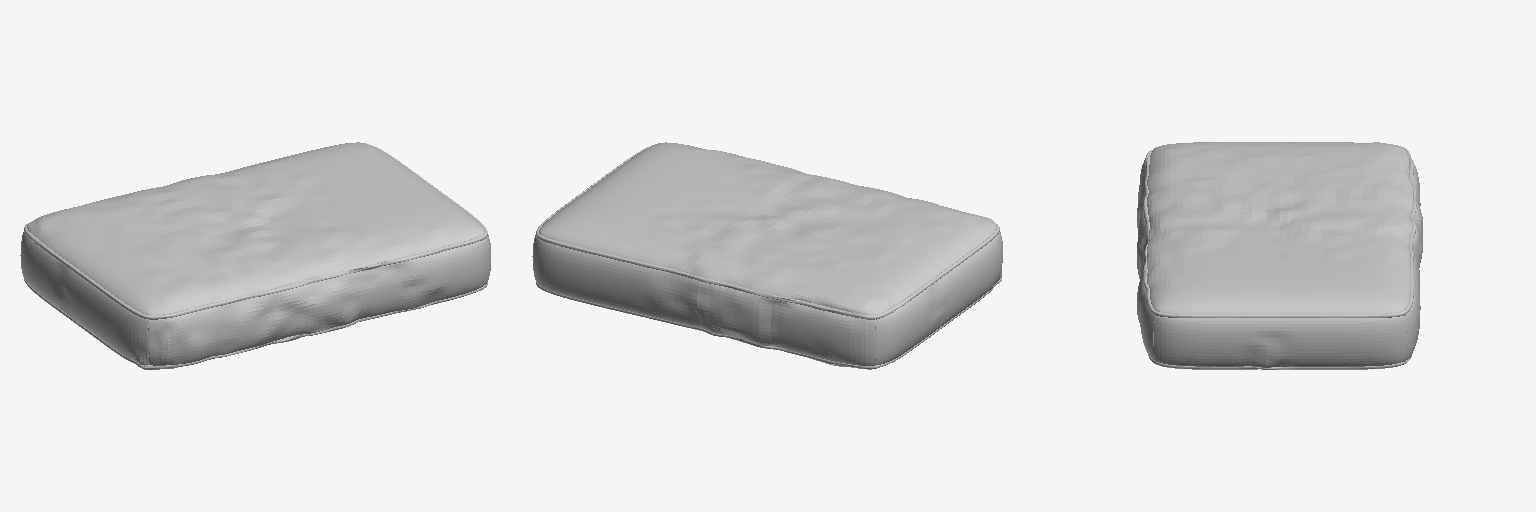
The model's file is Mattress.obj.
The picture shows the model from 3 angles: view 1: azimuth 30°, elevation 25°; view 2: azimuth 150°, elevation 25°; view 3: azimuth 270°, elevation 25°; orthographic projection.
Parts seen in each view (by area): view 1: Object001, Box001; view 2: Object001, Box001; view 3: Object001, Box001.
Part boxes in pixels (bbox=[...]): Object001: bbox=[26, 142, 485, 314]; Box001: bbox=[20, 145, 490, 369]; Object001: bbox=[538, 142, 997, 314]; Box001: bbox=[532, 145, 1002, 369]; Object001: bbox=[1146, 142, 1413, 313]; Box001: bbox=[1137, 147, 1422, 369].
Bounding box in the file's own units: 3.73 × 0.7624 × 2.53.